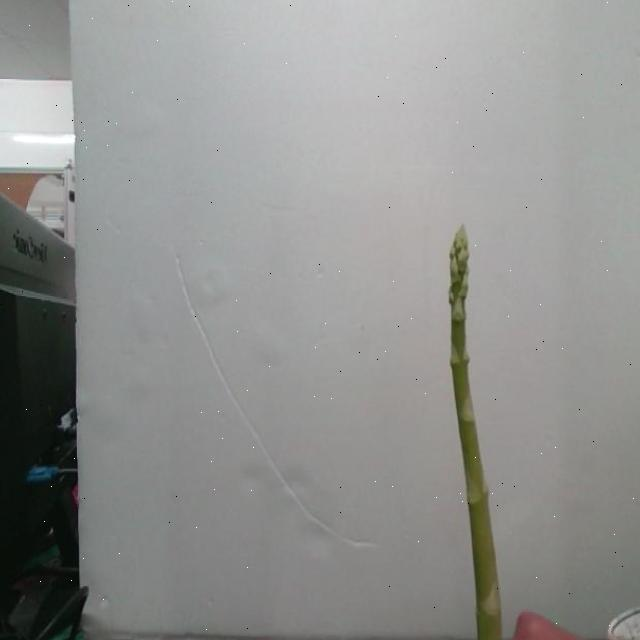aspargus: (447, 226, 505, 640)
